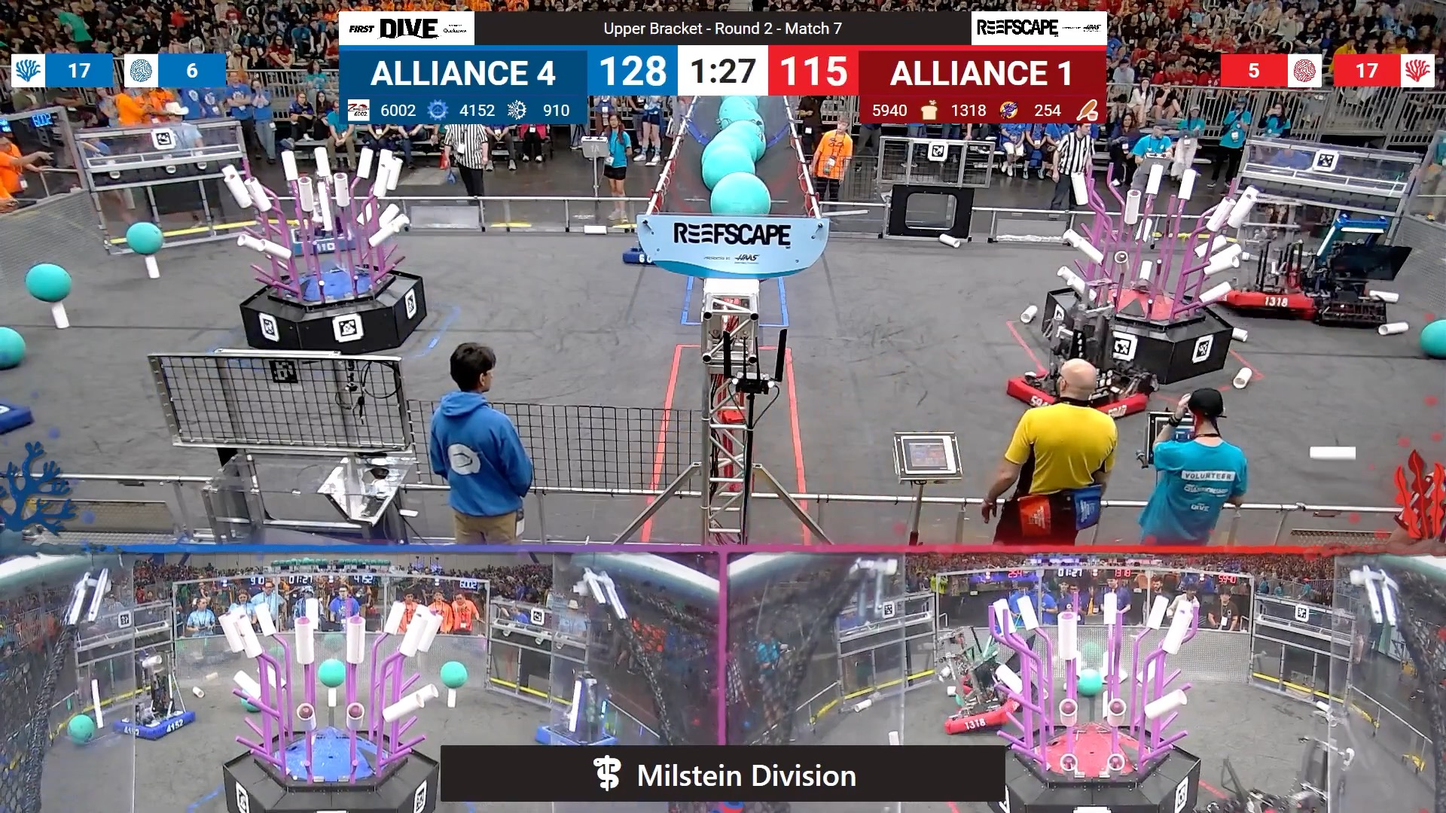bumpers: (1001, 361, 1159, 427), (1219, 282, 1322, 324), (109, 705, 204, 745), (942, 697, 1024, 736), (285, 224, 377, 257), (532, 720, 623, 747), (0, 392, 39, 446), (617, 244, 669, 270)
